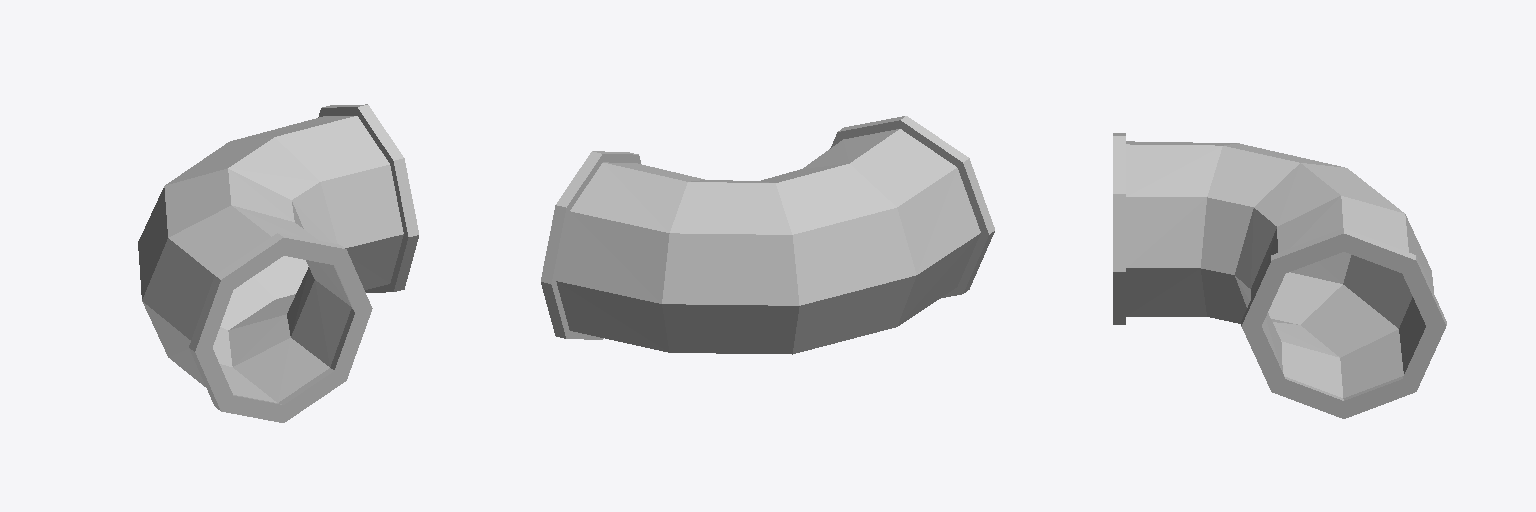
Rendered from tuberCorner.obj.
The picture shows the model from 3 angles: view 1: azimuth 30°, elevation 25°; view 2: azimuth 150°, elevation 25°; view 3: azimuth 270°, elevation 25°; orthographic projection.
Visible parts, largest first — view 1: tubeU.001_BezierCurve.001; view 2: tubeU.001_BezierCurve.001; view 3: tubeU.001_BezierCurve.001.
Part boxes in pixels (bbox=[...]): tubeU.001_BezierCurve.001: bbox=[138, 104, 418, 422]; tubeU.001_BezierCurve.001: bbox=[541, 116, 994, 354]; tubeU.001_BezierCurve.001: bbox=[1113, 133, 1446, 418].
Bounding box in the file's own units: 1.15 × 0.7062 × 1.15.